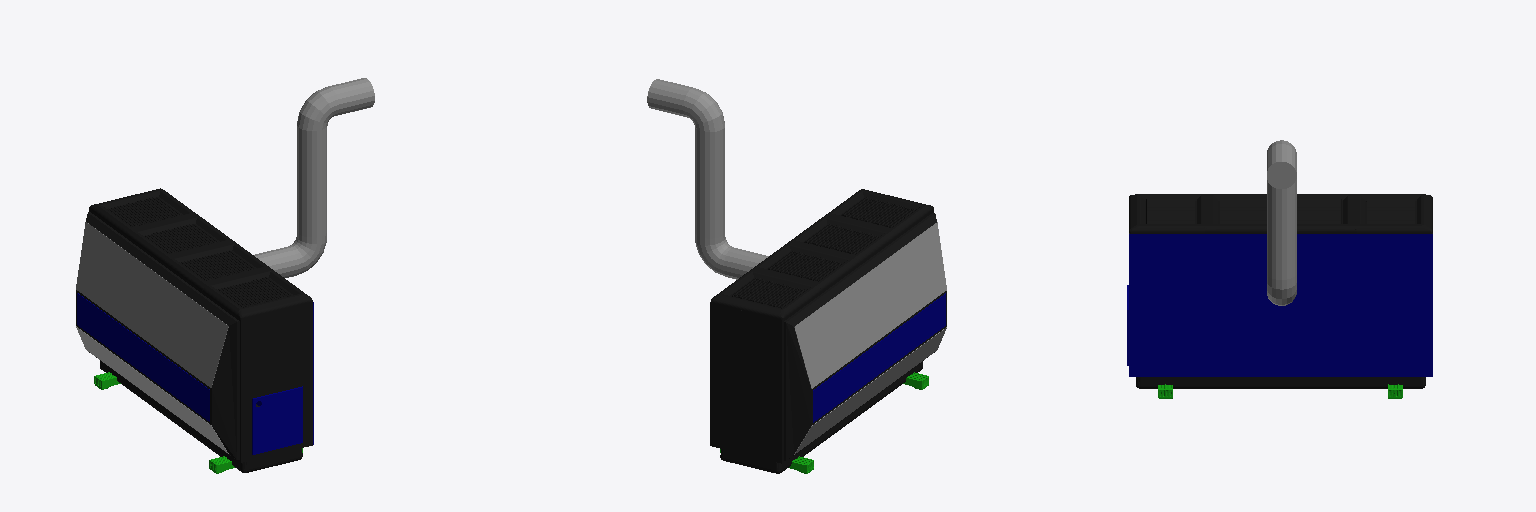
Rendered from ojaq.obj.
The picture shows the model from 3 angles: view 1: azimuth 30°, elevation 25°; view 2: azimuth 150°, elevation 25°; view 3: azimuth 270°, elevation 25°; orthographic projection.
Visible parts, largest first — view 1: Plane070, Object003, Cylinder001, Plane001, Object002, Object004; view 2: Plane070, Object003, Cylinder001, Plane001, Object002; view 3: Object005, Plane001, Cylinder001, Plane070.
Boxes of the visible parts, box(x1,y1,x2,y2) form: Plane070: box(76, 200, 312, 472); Object003: box(76, 222, 228, 453); Cylinder001: box(254, 78, 374, 277); Plane001: box(89, 188, 312, 319); Object002: box(77, 293, 209, 421); Object004: box(252, 386, 302, 454); Plane070: box(710, 200, 946, 473); Object003: box(794, 222, 946, 454); Cylinder001: box(647, 79, 768, 279); Plane001: box(711, 189, 933, 320); Object002: box(813, 293, 945, 422); Object005: box(1129, 234, 1432, 376); Plane001: box(1129, 194, 1432, 233); Cylinder001: box(1267, 140, 1296, 305); Plane070: box(1129, 202, 1432, 388).
Size of the model in its own units: 105 by 133 by 123.